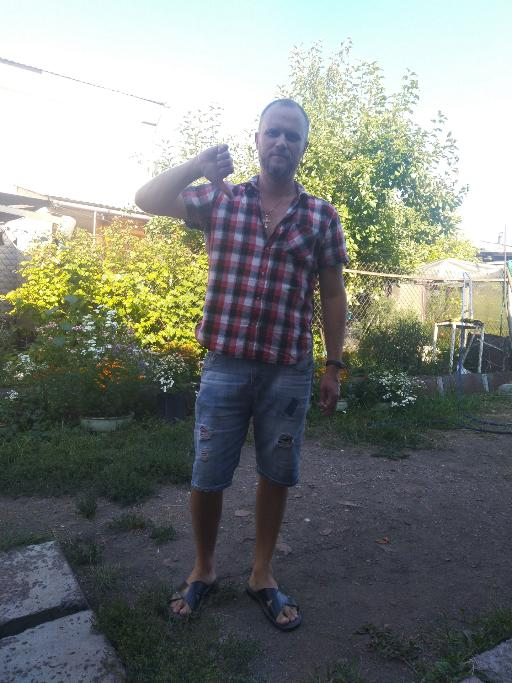dislike: (196, 140, 237, 202)
no_gesture: (315, 364, 344, 418)
